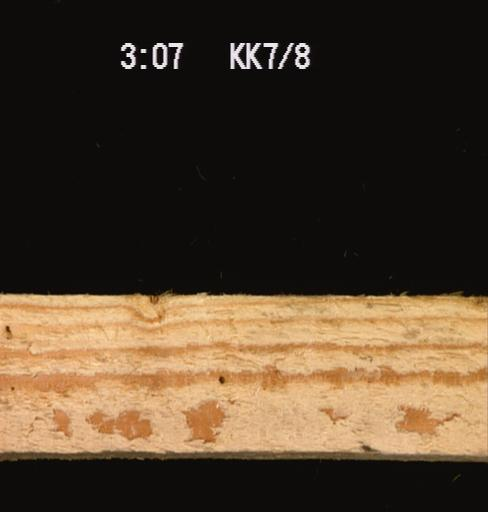edge_knot: (445, 294, 486, 305), (142, 294, 167, 308)
